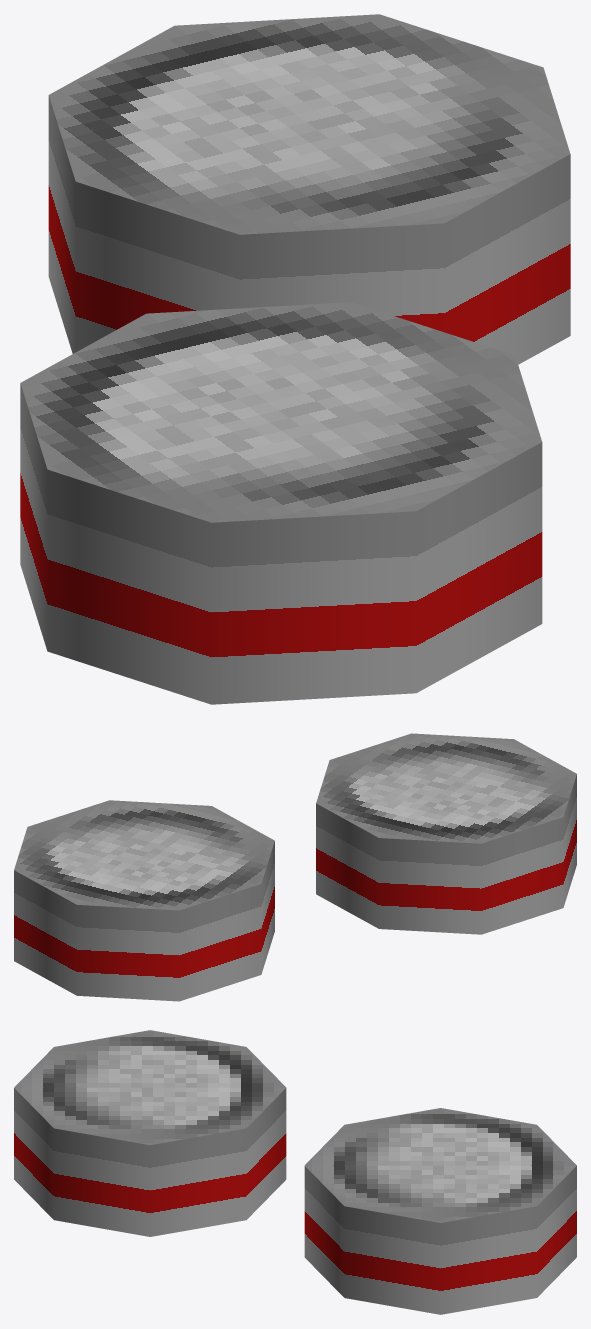
Rendered from RespiratorFilters.fbx.
3 renders of one model, top to bottom at view 1: azimuth 30°, elevation 25°; view 2: azimuth 150°, elevation 25°; view 3: azimuth 270°, elevation 25°, orthographic. The views are drawn at different scales.
Parts seen in each view (by area): view 1: RespiratorFilters; view 2: RespiratorFilters; view 3: RespiratorFilters.
Part boxes in pixels (<box>): RespiratorFilters: <box>20,14,570,704</box>; RespiratorFilters: <box>14,733,576,1001</box>; RespiratorFilters: <box>14,1030,576,1314</box>.
Bounding box in the file's own units: 0.6308 × 0.1399 × 0.7776.
